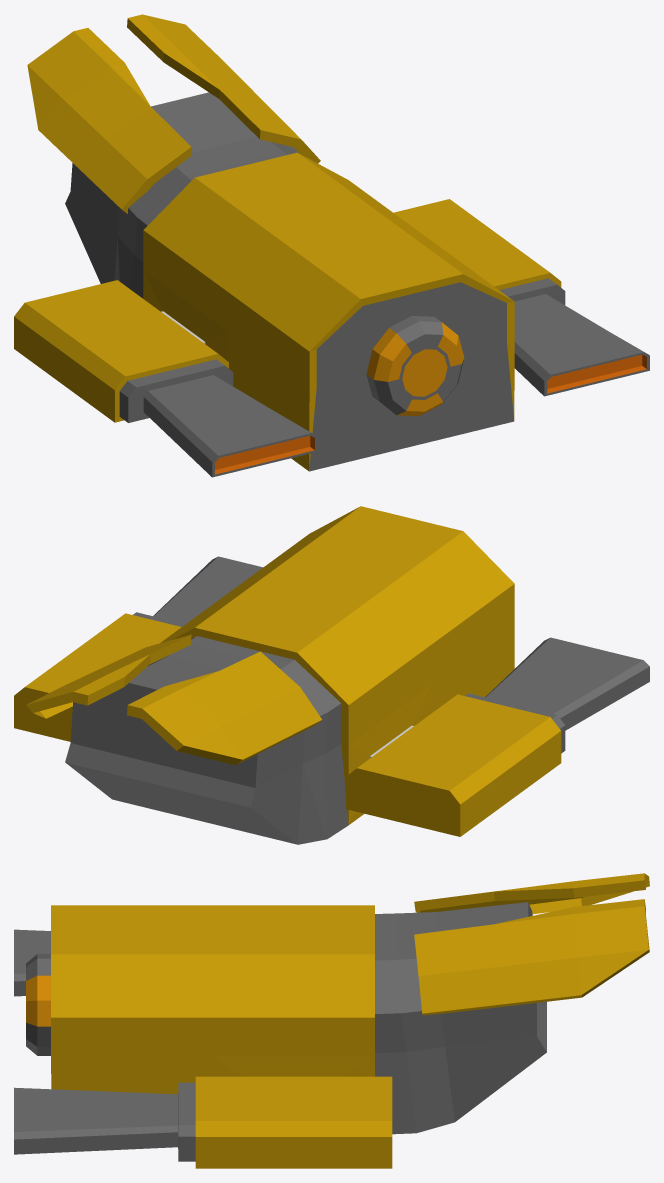
File: EnemyConeShot.fbx
The picture shows the model from 3 angles, top to bottom: view 1: azimuth 30°, elevation 25°; view 2: azimuth 150°, elevation 25°; view 3: azimuth 270°, elevation 25°; orthographic projection. The views are drawn at different scales.
Visible parts, largest first — view 1: Body, RightGun, LeftGun; view 2: Body, RightGun, LeftGun; view 3: Body, LeftGun, RightGun.
Boxes of the visible parts, x1=… form: Body: x1=27, y1=14, x2=514, y2=471; RightGun: x1=14, y1=280, x2=317, y2=477; LeftGun: x1=393, y1=199, x2=649, y2=396; Body: x1=26, y1=506, x2=514, y2=844; RightGun: x1=346, y1=637, x2=649, y2=836; LeftGun: x1=14, y1=556, x2=262, y2=741; Body: x1=26, y1=873, x2=649, y2=1134; LeftGun: x1=14, y1=1076, x2=392, y2=1168; RightGun: x1=14, y1=929, x2=50, y2=996.
Size of the model in its own units: 118 by 50.98 by 150.
